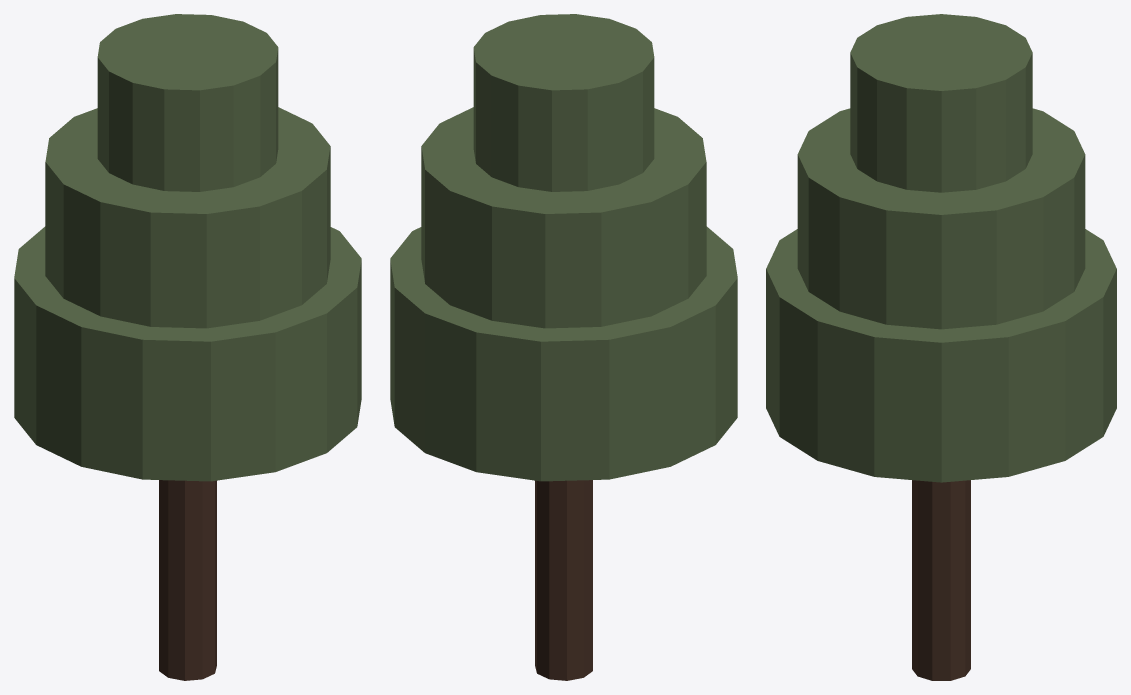
3 views of the same model, side by side, from view 1: azimuth 30°, elevation 25°; view 2: azimuth 150°, elevation 25°; view 3: azimuth 270°, elevation 25° (orthographic).
Parts seen in each view (by area): view 1: arbol_patio; view 2: arbol_patio; view 3: arbol_patio.
Part boxes in pixels (box(x1,y1,x2,y2)): arbol_patio: box(14, 14, 361, 680); arbol_patio: box(390, 14, 737, 680); arbol_patio: box(766, 14, 1116, 680).
Bounding box in the file's own units: 1.9 × 1.9 × 3.69.
